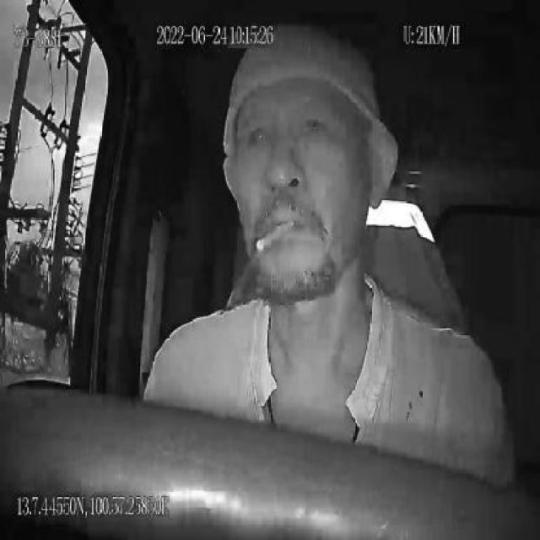smoking: (257, 220, 296, 255)
